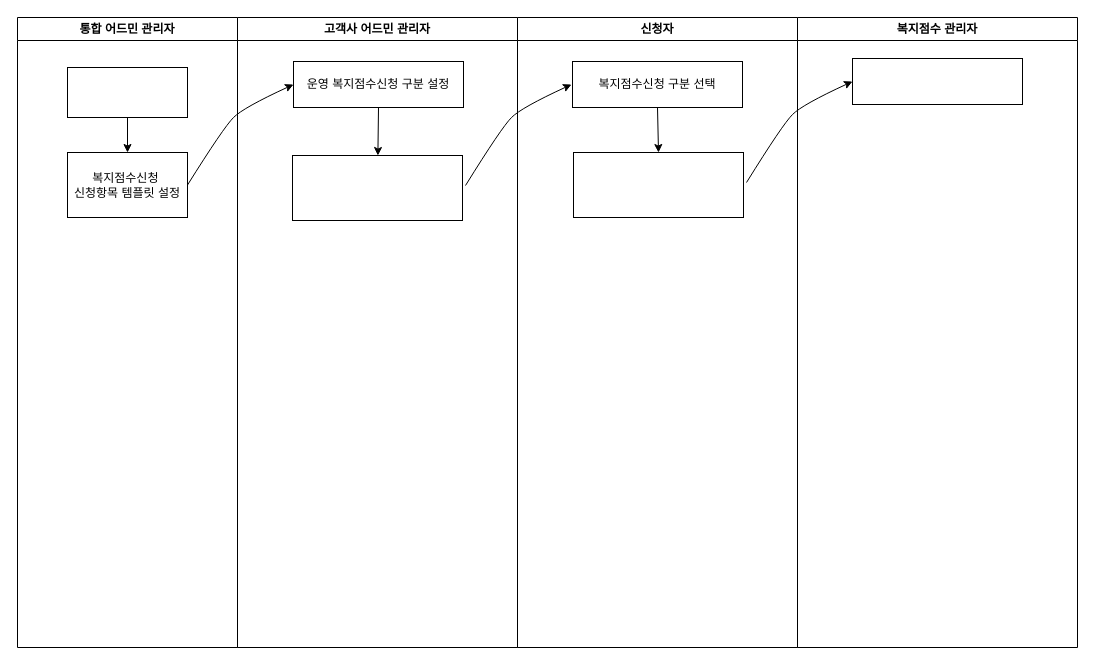
Image size: 1095x665. Some labels were removed from this diagram. Here are the shapes that lost their labels. From the top down, the centre of each, then its label:
point (127, 92): 복지점수신청 구분 생성 (공통 코드값 활용 등)
point (937, 81): 복지점수신청서 접수
point (377, 187): 복지점수신청 구분별 신청 입력 항목 설정
point (658, 185): 선택 복지점수신청 구분 신청서 작성
